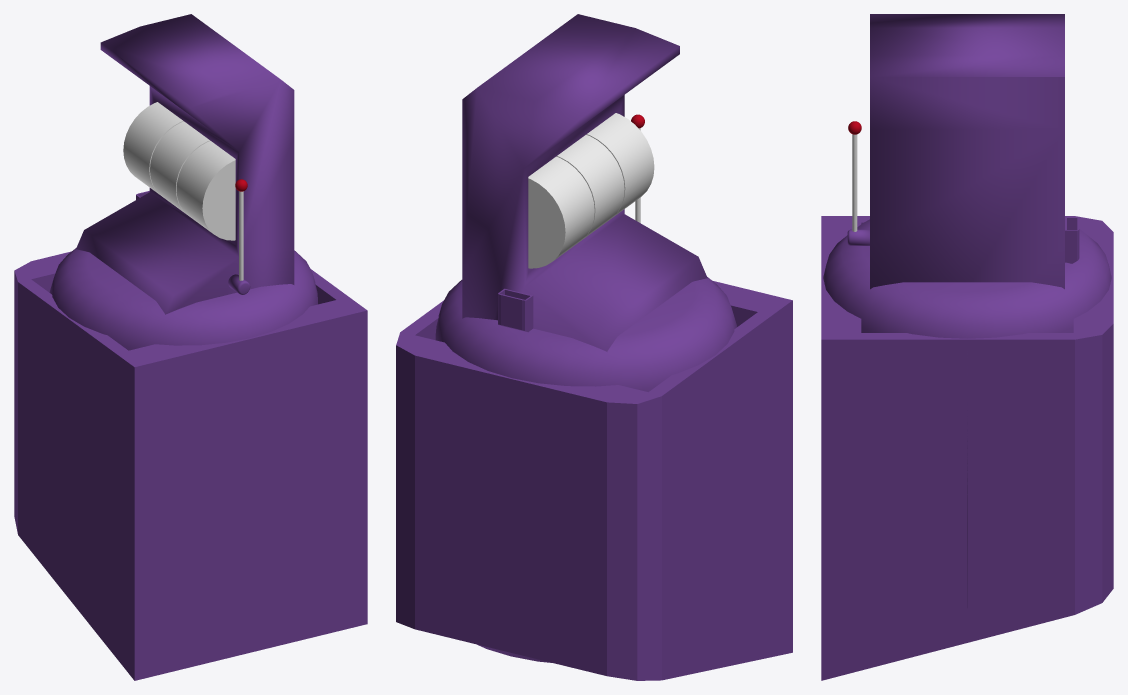
File: slot-machine.glb
The picture shows the model from 3 angles, left to right: view 1: azimuth 30°, elevation 25°; view 2: azimuth 150°, elevation 25°; view 3: azimuth 270°, elevation 25°; orthographic projection. The views are drawn at different scales.
Visible parts, largest first — view 1: Cube.001, Body, Cylinder.001, Reel1, Reel2, Reel3, Reel3Caps, Lever; view 2: Cube.001, Body, Cylinder.001, Reel1, Reel2, Reel3, Reel1Caps, CoinEntry; view 3: Cube.001, Body, Cylinder.001, Lever, CoinEntry.
Boxes of the visible parts, bbox=[...] form: Cube.001: bbox=[14, 251, 367, 680]; Body: bbox=[76, 14, 294, 314]; Cylinder.001: bbox=[49, 248, 317, 350]; Reel1: bbox=[123, 102, 182, 194]; Reel2: bbox=[150, 121, 209, 213]; Reel3: bbox=[176, 141, 235, 233]; Reel3Caps: bbox=[202, 160, 235, 240]; Lever: bbox=[235, 179, 247, 280]; Cube.001: bbox=[396, 280, 792, 680]; Body: bbox=[462, 14, 707, 351]; Cylinder.001: bbox=[435, 277, 737, 662]; Reel1: bbox=[528, 156, 594, 260]; Reel2: bbox=[557, 135, 624, 238]; Reel3: bbox=[587, 113, 654, 216]; Reel1Caps: bbox=[528, 178, 565, 268]; CoinEntry: bbox=[498, 288, 533, 332]; Cube.001: bbox=[821, 216, 1113, 680]; Body: bbox=[847, 14, 1064, 289]; Cylinder.001: bbox=[823, 219, 1111, 607]; Lever: bbox=[848, 121, 861, 231]; CoinEntry: bbox=[1065, 217, 1079, 263].
Bounding box in the file's own units: 2 × 4.46 × 2.
